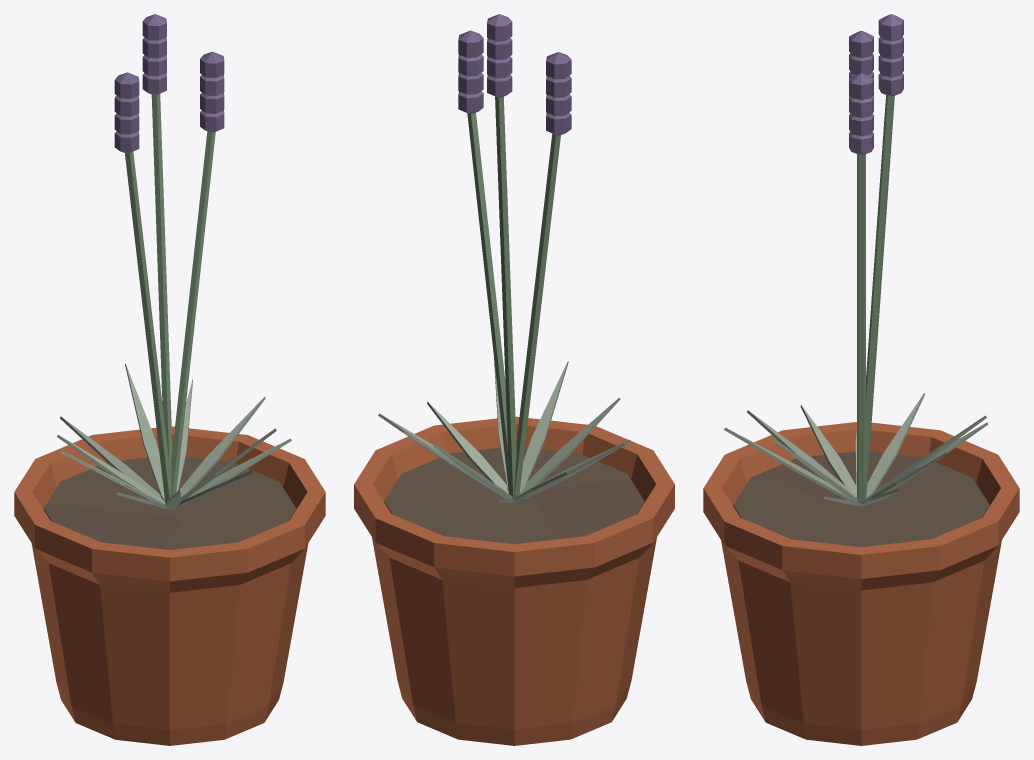
The model's file is lavender.glb.
3 views of the same model, side by side, from view 1: azimuth 30°, elevation 25°; view 2: azimuth 150°, elevation 25°; view 3: azimuth 270°, elevation 25° (orthographic). The views are drawn at different scales.
Visible parts, largest first — view 1: lavender/review-terra-vessel, lavender/review-rooted-soil, lavender/petiole-017, lavender/petiole-022, lavender/petiole-012, lavender/leaf-008, lavender/leaf-006, lavender/leaf-009, lavender/leaf-005, lavender/leaf-010, lavender/flower-spike-016, lavender/flower-spike-021 (+3 smaller); view 2: lavender/review-terra-vessel, lavender/review-rooted-soil, lavender/petiole-017, lavender/petiole-012, lavender/petiole-022, lavender/leaf-003, lavender/leaf-002, lavender/leaf-005, lavender/flower-spike-026, lavender/flower-spike-016, lavender/flower-spike-021; view 3: lavender/review-terra-vessel, lavender/review-rooted-soil, lavender/petiole-017, lavender/petiole-022, lavender/leaf-010, lavender/leaf-001, lavender/leaf-003, lavender/leaf-002, lavender/leaf-008, lavender/flower-spike-021, lavender/flower-spike-016, lavender/flower-spike-026.
Boxes of the visible parts, x1,y1,x2,y2 form: lavender/review-terra-vessel: (14, 426, 325, 745); lavender/review-rooted-soil: (43, 457, 296, 549); lavender/petiole-017: (151, 94, 172, 478); lavender/petiole-022: (171, 131, 215, 509); lavender/petiole-012: (125, 152, 171, 509); lavender/leaf-008: (125, 364, 164, 501); lavender/leaf-006: (179, 396, 265, 497); lavender/leaf-009: (60, 416, 163, 500); lavender/leaf-005: (177, 438, 291, 507); lavender/leaf-010: (56, 434, 165, 503); lavender/flower-spike-016: (114, 72, 139, 98); lavender/flower-spike-021: (142, 14, 166, 40); lavender/review-terra-vessel: (354, 416, 674, 745); lavender/review-rooted-soil: (384, 447, 644, 544); lavender/petiole-017: (495, 96, 516, 497); lavender/petiole-012: (513, 133, 560, 501); lavender/petiole-022: (467, 113, 509, 493); lavender/leaf-003: (519, 361, 568, 492); lavender/leaf-002: (519, 397, 620, 494); lavender/leaf-005: (427, 402, 508, 493); lavender/flower-spike-026: (458, 30, 483, 57); lavender/flower-spike-016: (546, 52, 571, 79); lavender/flower-spike-021: (487, 14, 512, 41); lavender/review-terra-vessel: (703, 422, 1019, 745); lavender/review-rooted-soil: (733, 451, 989, 547); lavender/petiole-017: (864, 95, 894, 500); lavender/petiole-022: (857, 154, 865, 506); lavender/leaf-010: (866, 393, 924, 498); lavender/leaf-001: (800, 405, 856, 496); lavender/leaf-003: (724, 427, 853, 501); lavender/leaf-002: (747, 410, 856, 498); lavender/leaf-008: (866, 415, 986, 499); lavender/flower-spike-021: (878, 14, 903, 41); lavender/flower-spike-016: (849, 30, 873, 57); lavender/flower-spike-026: (849, 73, 873, 99).
Size of the model in its own units: 0.19 by 0.4545 by 0.19.
Materials: 5 (5 with a texture image).
